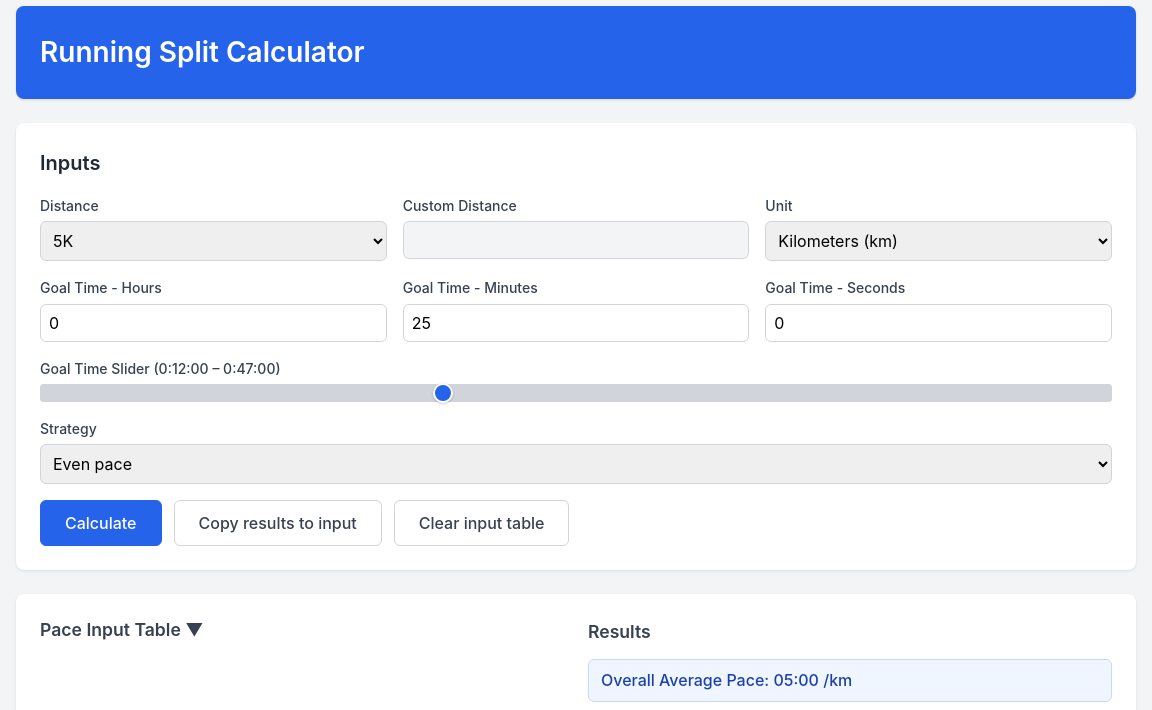
Test: Persistence load on boot › should restore pace inputs from persisted state
The image size is (1152, 710).
Click the button "Pace Input Table ▼".
click(113, 630)  # box [40,619,564,652]
(page scrolled)
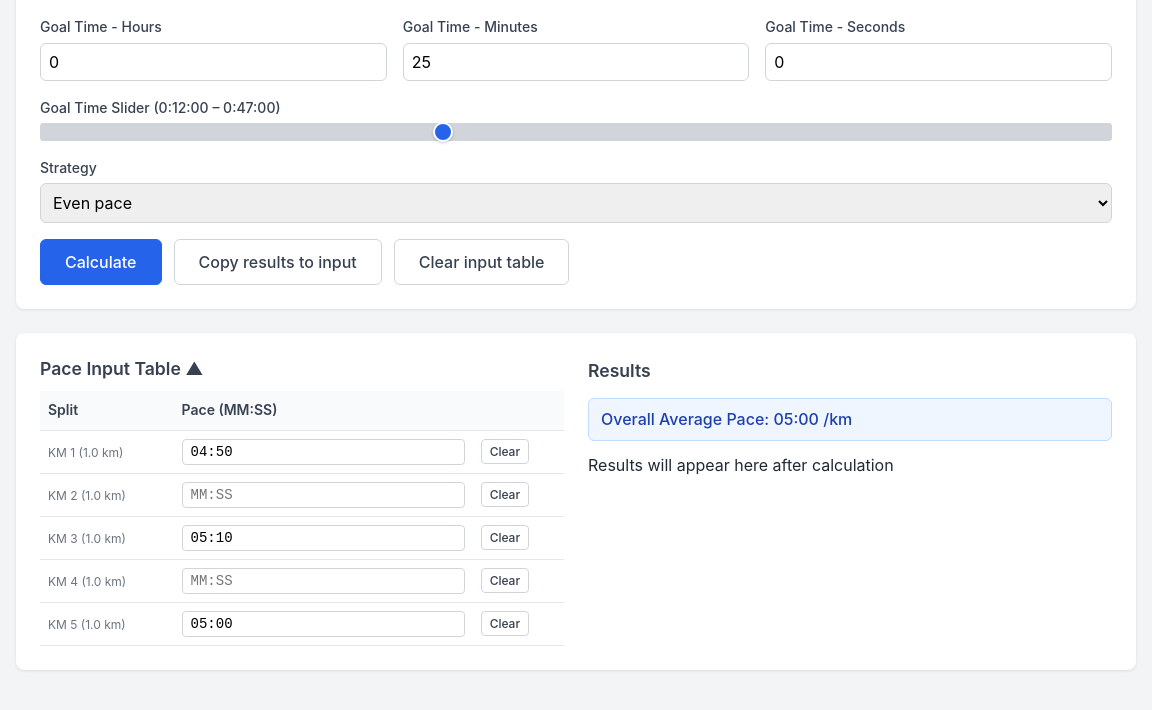
Now the field next to "KM 1 (1.0 km)" holds "04:50", box [182,439,465,465]
Now the field with placeholder "MM:SS" next to "KM 2 (1.0 km)" is empty, box [182,482,465,508]
Now the field next to "KM 3 (1.0 km)" holds "05:10", box [182,525,465,551]
